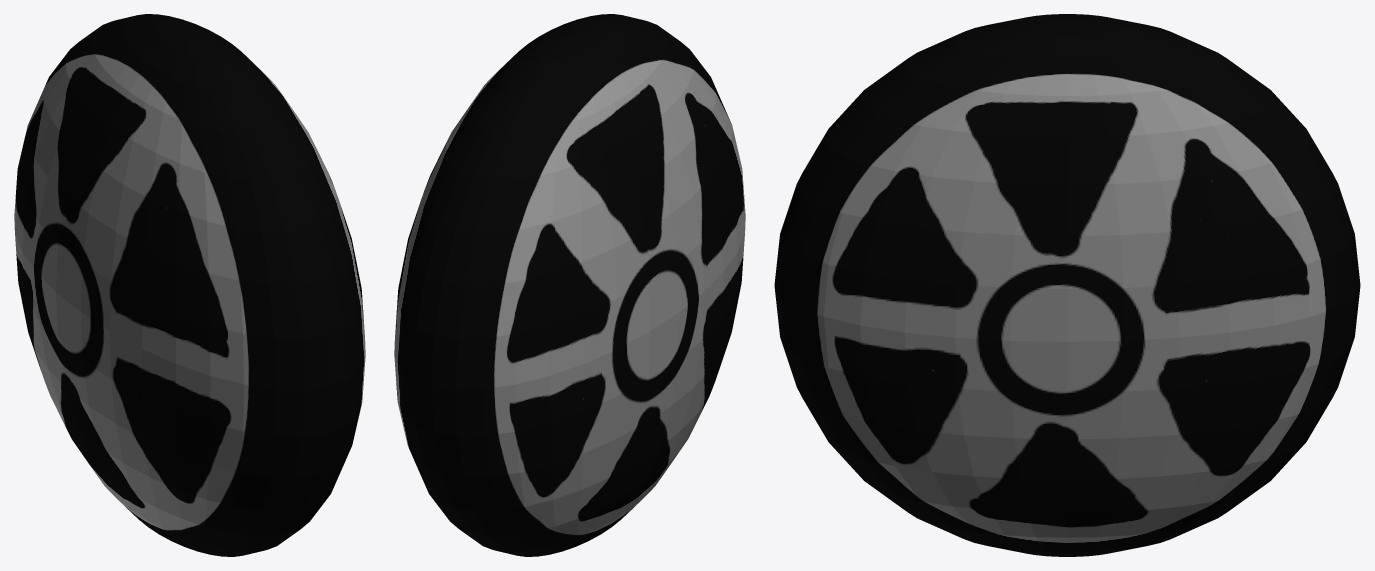
Rendered from enemy.obj.
The picture shows the model from 3 angles, left to right: view 1: azimuth 30°, elevation 25°; view 2: azimuth 150°, elevation 25°; view 3: azimuth 270°, elevation 25°; orthographic projection. The views are drawn at different scales.
Parts seen in each view (by area): view 1: 球.002; view 2: 球.002; view 3: 球.002.
Boxes of the visible parts, box(x1,y1,x2,y2) form: 球.002: box(14, 14, 365, 556); 球.002: box(394, 14, 745, 556); 球.002: box(774, 14, 1360, 556).
Bounding box in the file's own units: 0.5946 × 1.3 × 1.3.
Materials: 1 (1 with a texture image).
